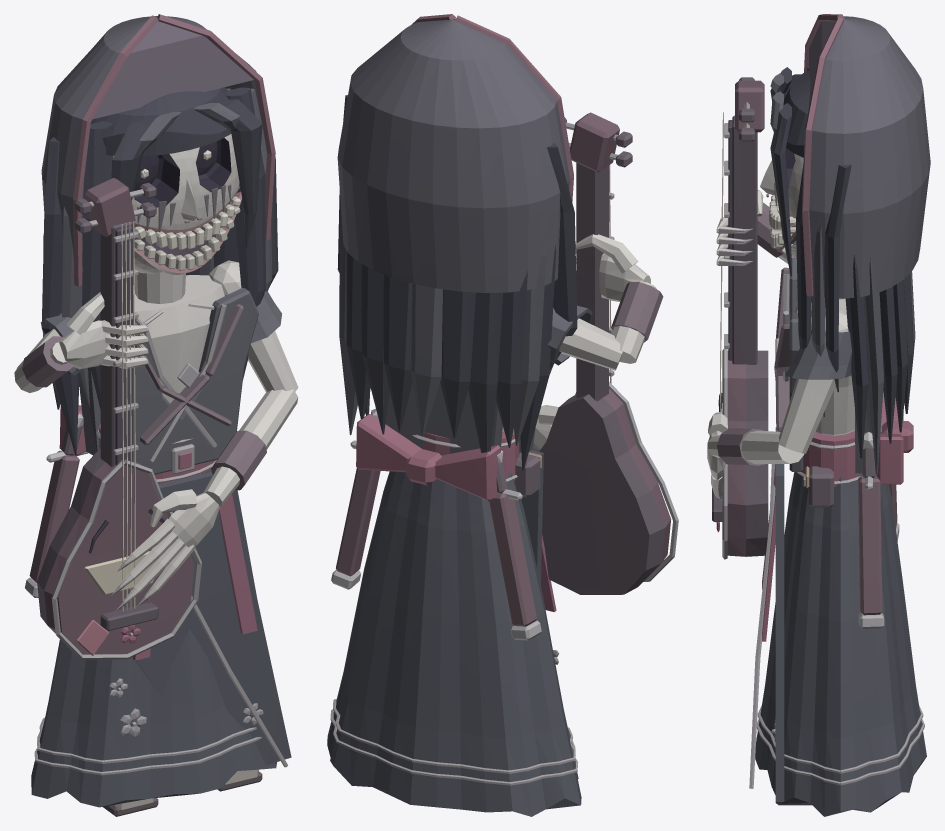
File: MimicAssassin.glb
3 renders of one model, left to right at view 1: azimuth 30°, elevation 25°; view 2: azimuth 150°, elevation 25°; view 3: azimuth 270°, elevation 25°, orthographic. The views are drawn at different scales.
Parts seen in each view (by area): view 1: Body, Head, ArmL, ArmR, LegR, LegL; view 2: Body, Head, ArmR, ArmL; view 3: Body, Head, ArmL, ArmR.
Boxes of the visible parts, bbox=[...] form: Body: bbox=[25, 178, 291, 807]; Head: bbox=[41, 14, 278, 455]; ArmL: bbox=[111, 260, 298, 610]; ArmR: bbox=[14, 292, 148, 392]; LegR: bbox=[103, 798, 158, 816]; LegL: bbox=[217, 769, 262, 791]; Body: bbox=[327, 112, 678, 816]; Head: bbox=[337, 14, 577, 470]; ArmR: bbox=[547, 234, 663, 370]; ArmL: bbox=[532, 405, 558, 451]; Body: bbox=[712, 77, 926, 816]; Head: bbox=[760, 14, 930, 473]; ArmL: bbox=[707, 309, 851, 500]; ArmR: bbox=[716, 190, 788, 265].
Bounding box in the file's own units: 3.1 × 7.84 × 2.11.
